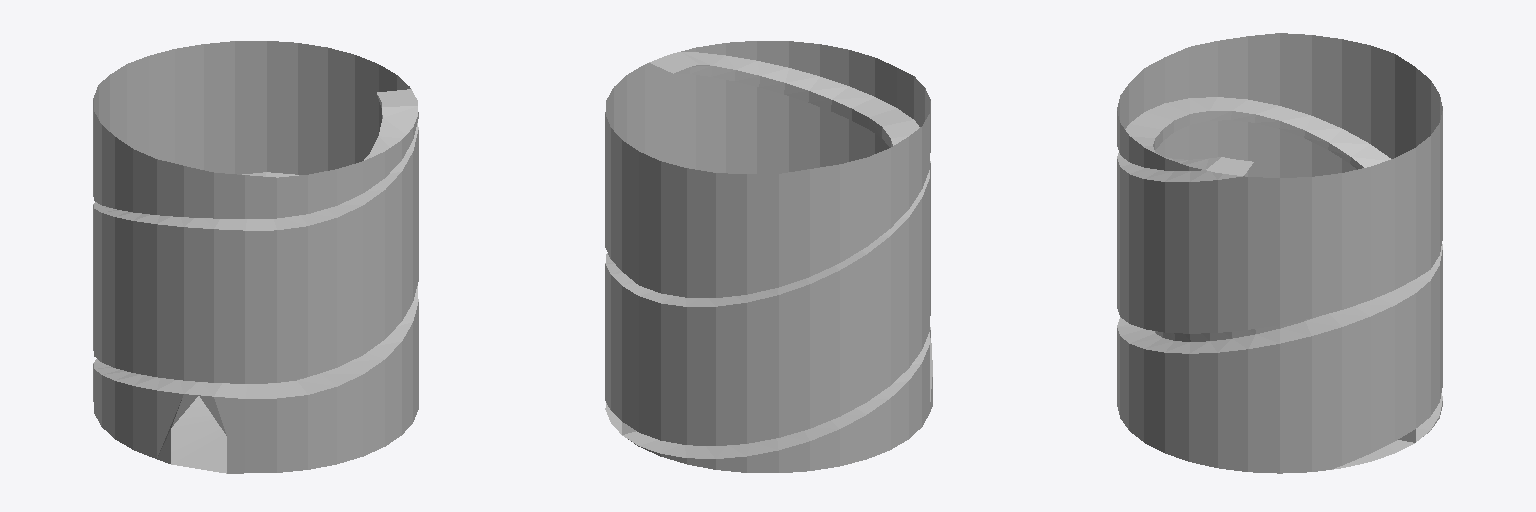
The model's file is spiral_staircase_cult_exit.obj.
3 renders of one model, left to right at view 1: azimuth 30°, elevation 25°; view 2: azimuth 150°, elevation 25°; view 3: azimuth 270°, elevation 25°, orthographic.
Visible parts, largest first — view 1: cult_spiral_staircase_Mesh; view 2: cult_spiral_staircase_Mesh; view 3: cult_spiral_staircase_Mesh.
Part boxes in pixels (bbox=[...]): cult_spiral_staircase_Mesh: bbox=[93, 41, 418, 473]; cult_spiral_staircase_Mesh: bbox=[605, 41, 932, 472]; cult_spiral_staircase_Mesh: bbox=[1117, 33, 1442, 473].
Size of the model in its own units: 15.75 by 16.44 by 15.75.